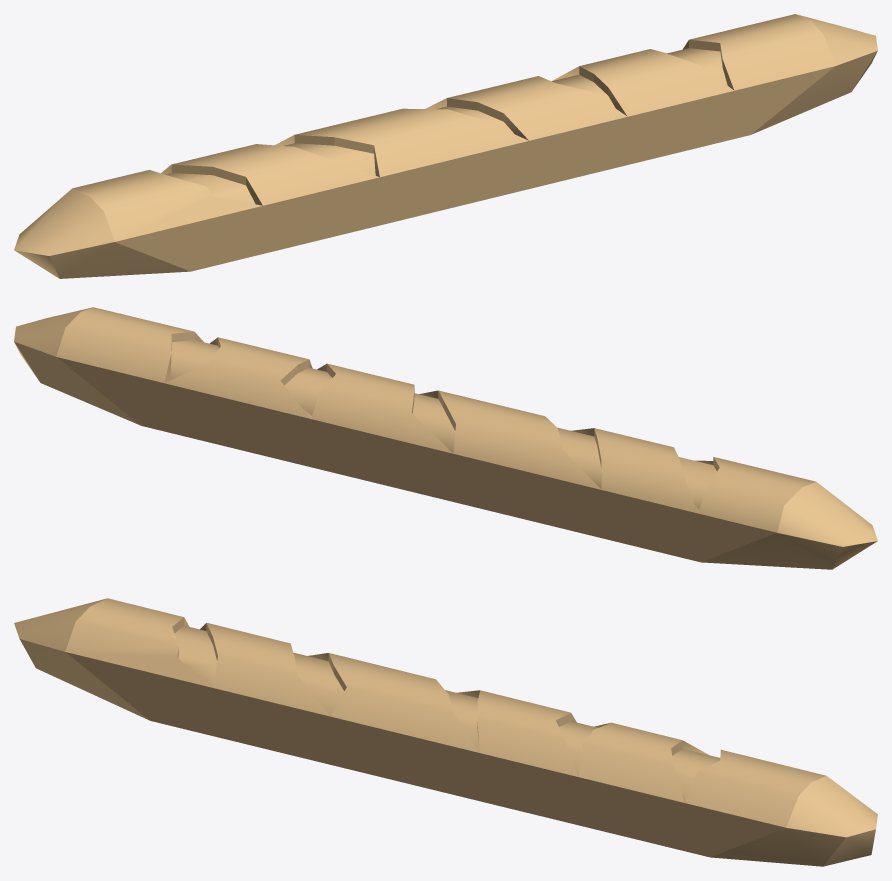
File: Baguette.fbx
3 views of the same model, one above another, from view 1: azimuth 30°, elevation 25°; view 2: azimuth 150°, elevation 25°; view 3: azimuth 330°, elevation 25° (orthographic).
Parts seen in each view (by area): view 1: Cut_Baguette; view 2: Cut_Baguette; view 3: Cut_Baguette.
Part boxes in pixels (box(x1,y1,x2,y2)): Cut_Baguette: box(14, 14, 877, 278); Cut_Baguette: box(14, 307, 877, 569); Cut_Baguette: box(14, 598, 877, 866).
Bounding box in the file's own units: 5.79 × 0.5104 × 0.5751.
